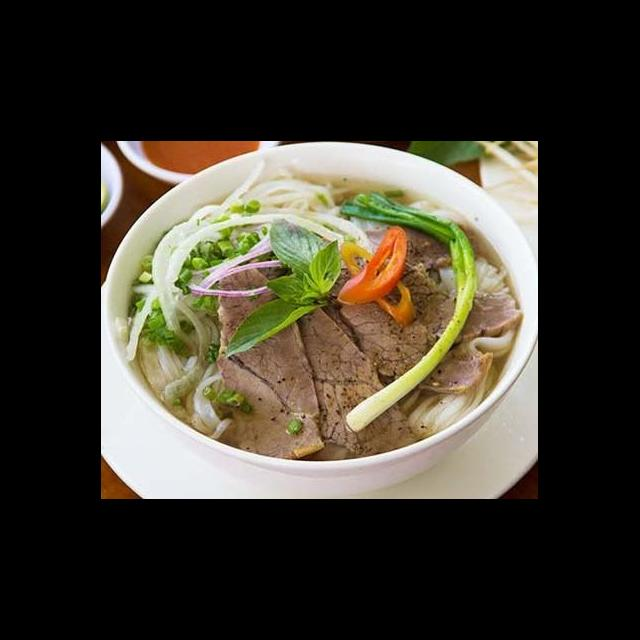banh pho: (124, 327, 240, 447), (226, 170, 356, 232), (396, 382, 494, 443)
pho bo: (121, 161, 537, 495)
thit bo: (320, 257, 526, 398), (210, 251, 328, 461), (280, 293, 424, 458), (354, 212, 484, 276)
